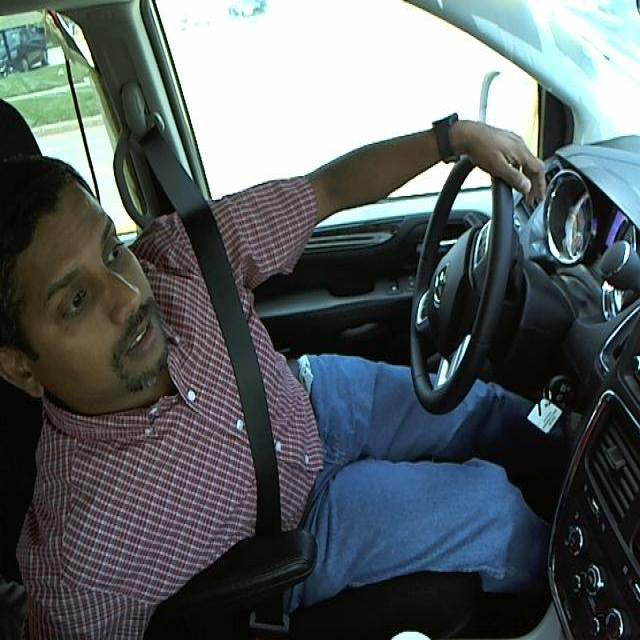seatbelt: (193, 250, 297, 526)
